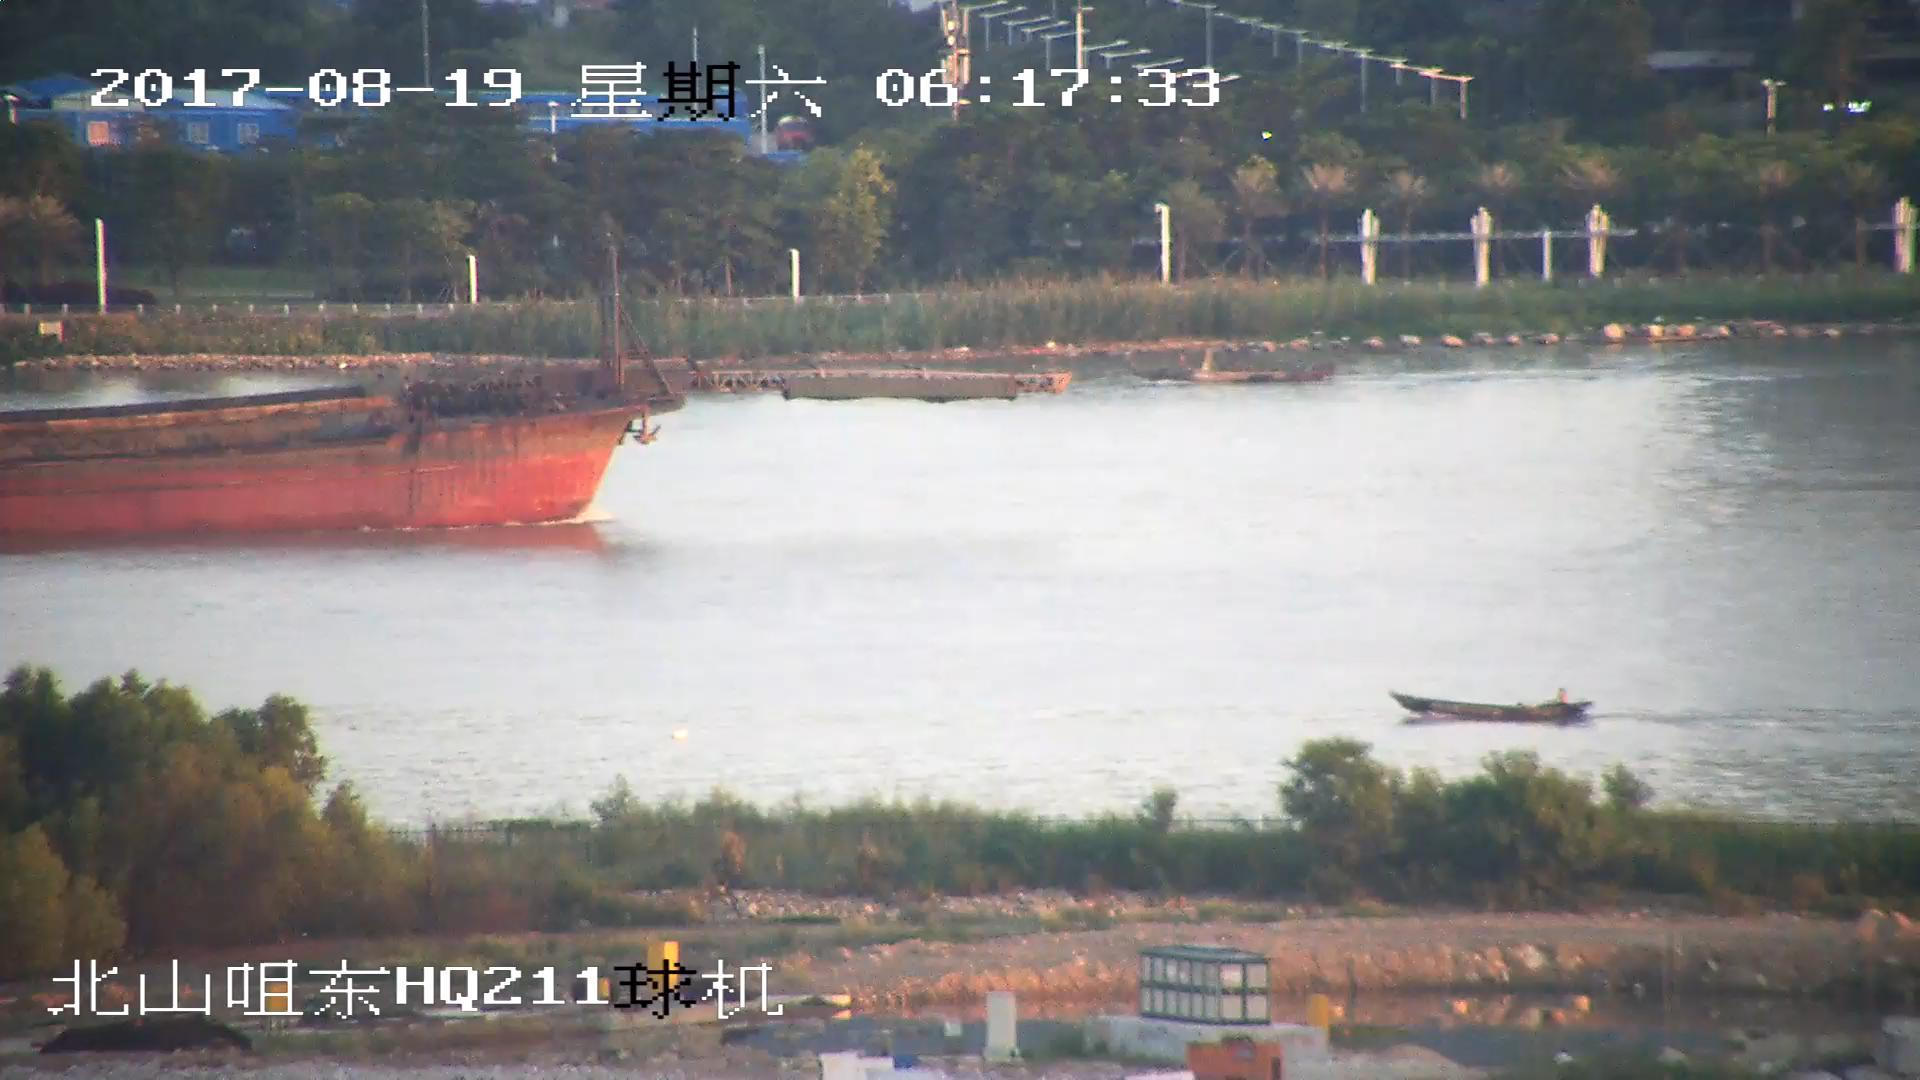Ship: (3, 249, 1072, 542), (1390, 688, 1598, 731), (1138, 353, 1335, 392)
